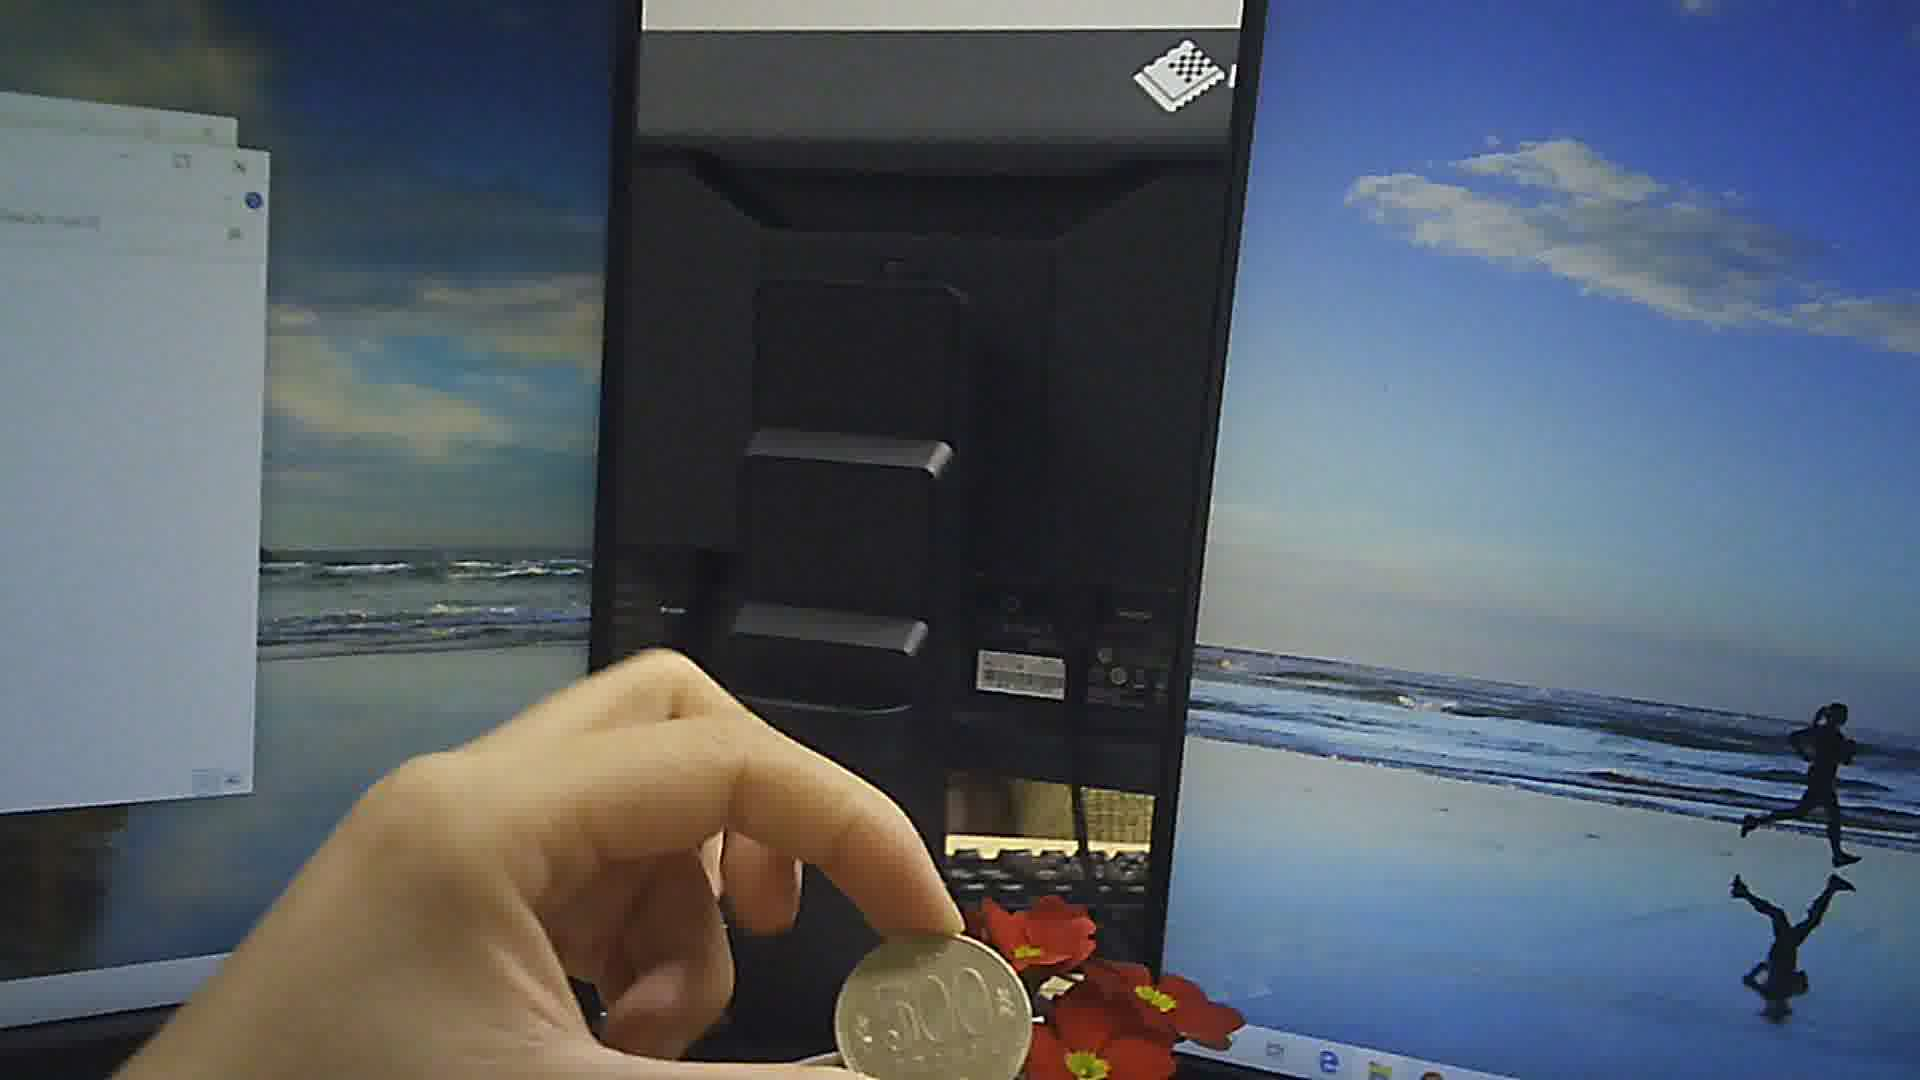500 Yen: (829, 930, 1035, 1077)
